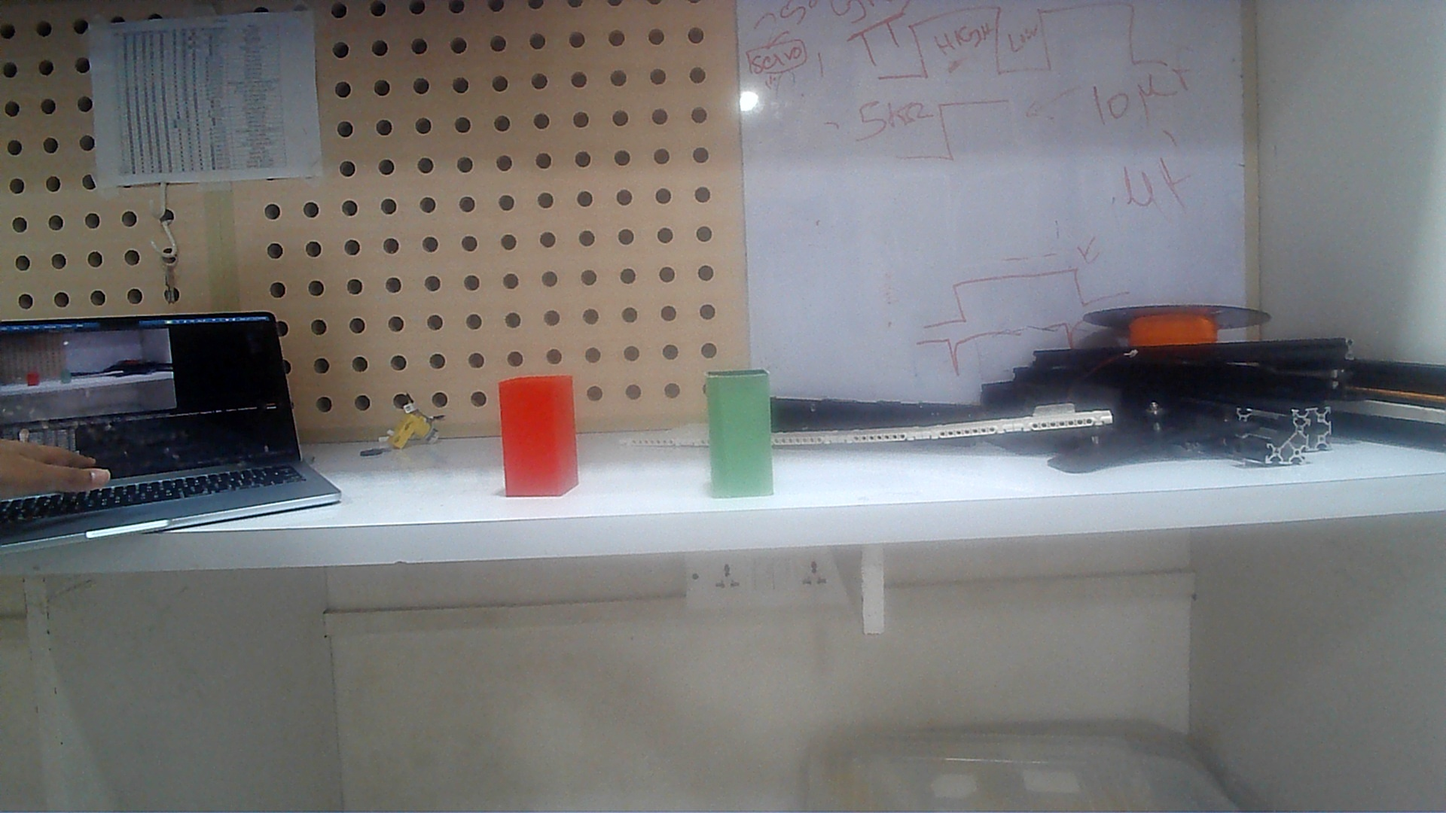red: (502, 376, 578, 494)
